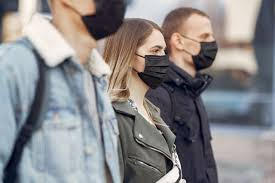with-mask: (43, 1, 133, 46), (172, 7, 221, 77), (124, 20, 171, 92)
